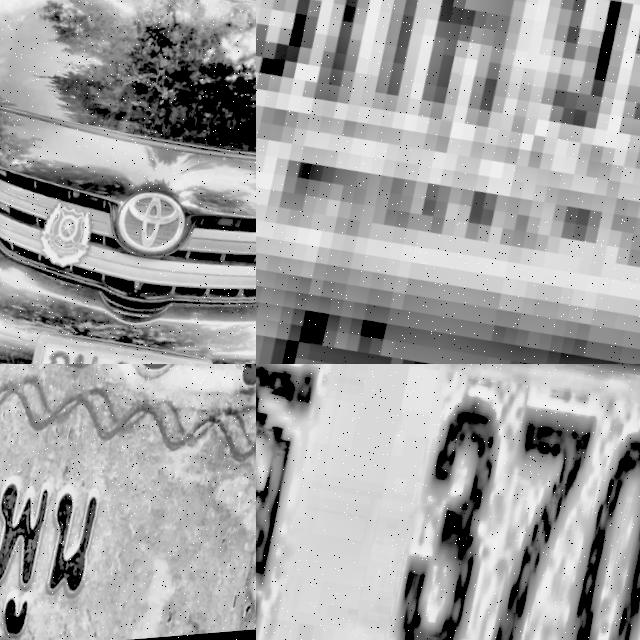license-plate: (256, 0, 640, 364), (256, 364, 640, 640), (0, 364, 256, 640), (6, 320, 213, 364)
